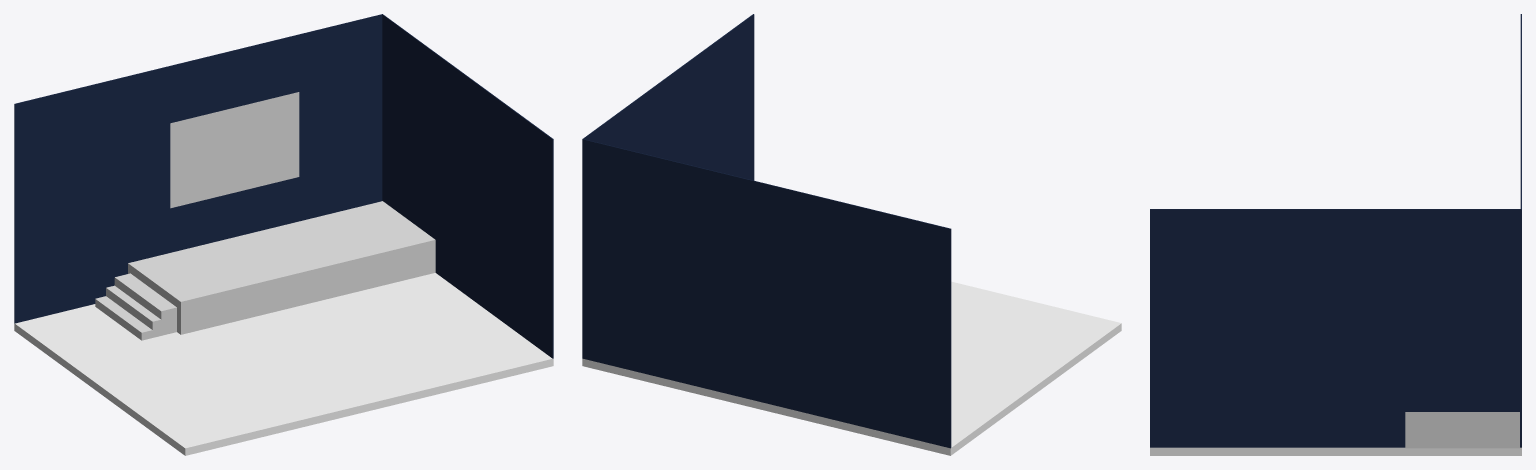
File: MaquetaDASHBOARDSfbx.fbx
3 views of the same model, side by side, from view 1: azimuth 30°, elevation 25°; view 2: azimuth 150°, elevation 25°; view 3: azimuth 270°, elevation 25° (orthographic). The views are drawn at different scales.
Parts seen in each view (by area): view 1: Cube.028, Cube.026, Cube.025, Plane.001; view 2: Cube.028, Cube.026; view 3: Cube.028, Cube.025, Cube.026.
Boxes of the visible parts, x1,y1,x2,y2 form: Cube.028: (14,14,553,358); Cube.026: (14,273,553,455); Cube.025: (95,201,435,340); Plane.001: (170,92,299,208); Cube.028: (582,14,951,448); Cube.026: (582,281,1121,455); Cube.028: (1150,14,1521,447); Cube.025: (1405,412,1519,448); Cube.026: (1150,447,1521,455).
Size of the model in its own units: 571 by 336 by 459.
